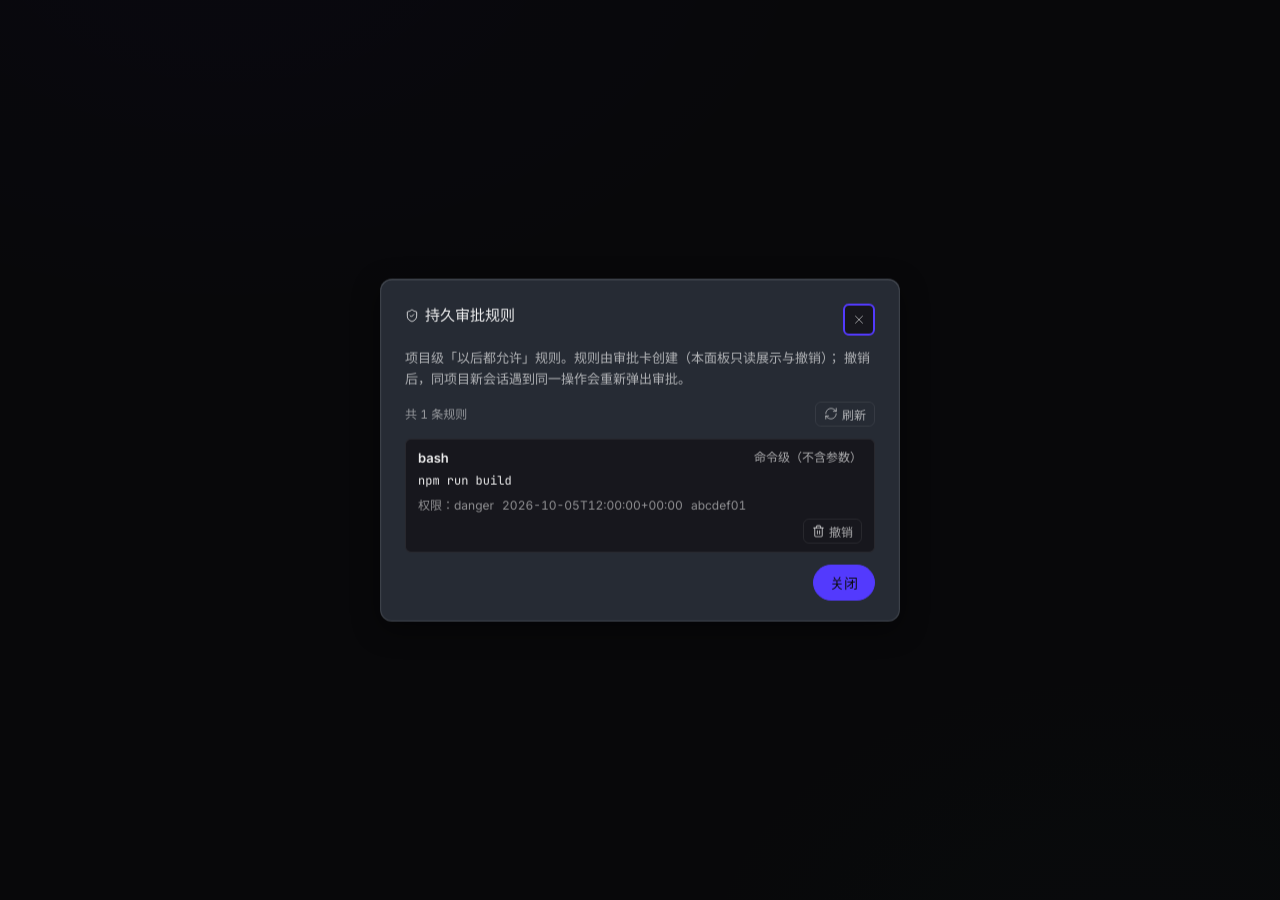
ApprovePolicyPanel › requires explicit confirmation before revoking (F21)
Note: 第一次点击「撤销」只进入确认态，绝不调用后端。
Click the button "撤销" at point(832, 531), box [803,518,862,543]
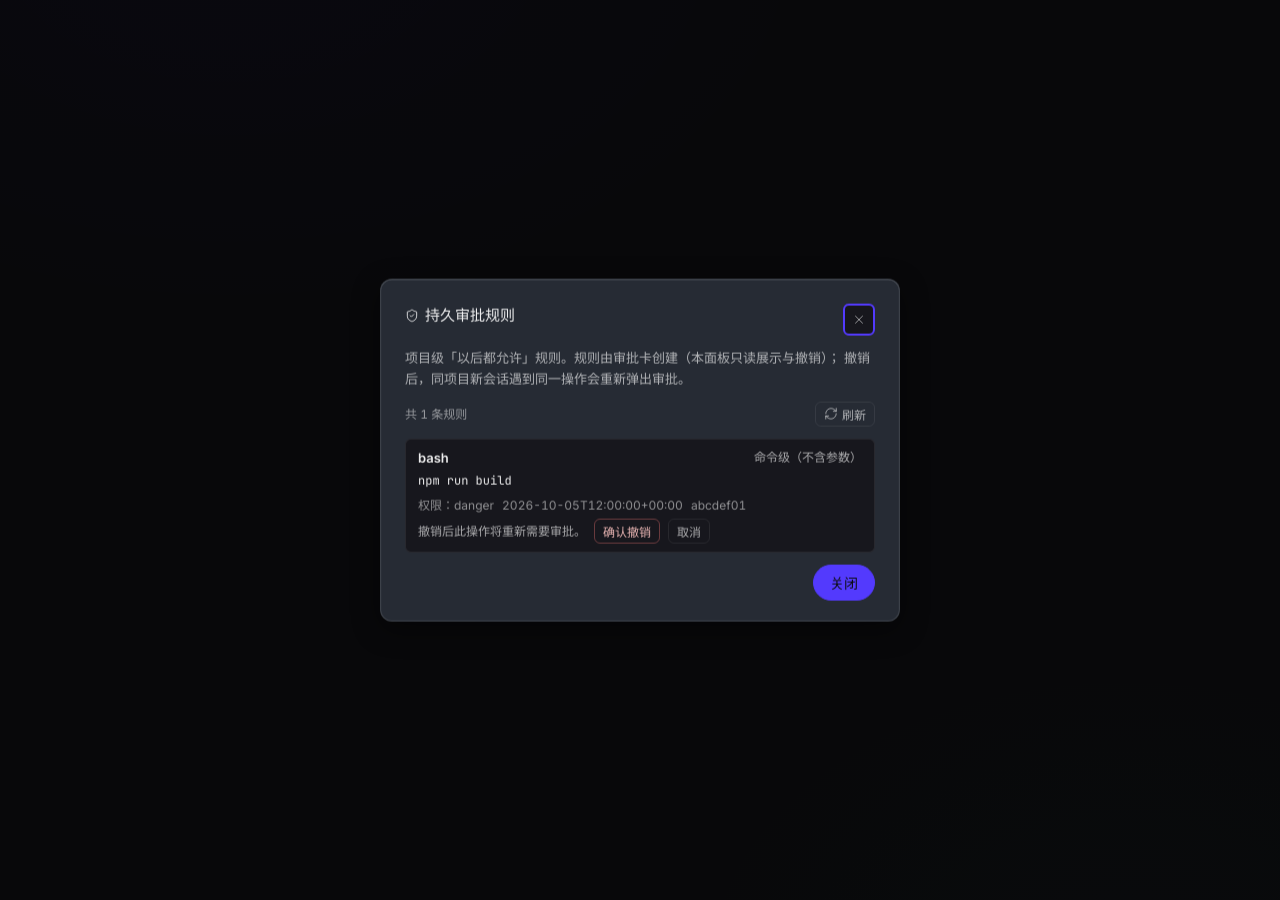
Now the element with class "approve-policy-confirm" is shown, box [418,518,710,543]
Note: 第二次点「确认撤销」才真调用，并从列表移除。
Click the button with class "approve-policy-danger" at point(627, 531), box [594,518,660,543]
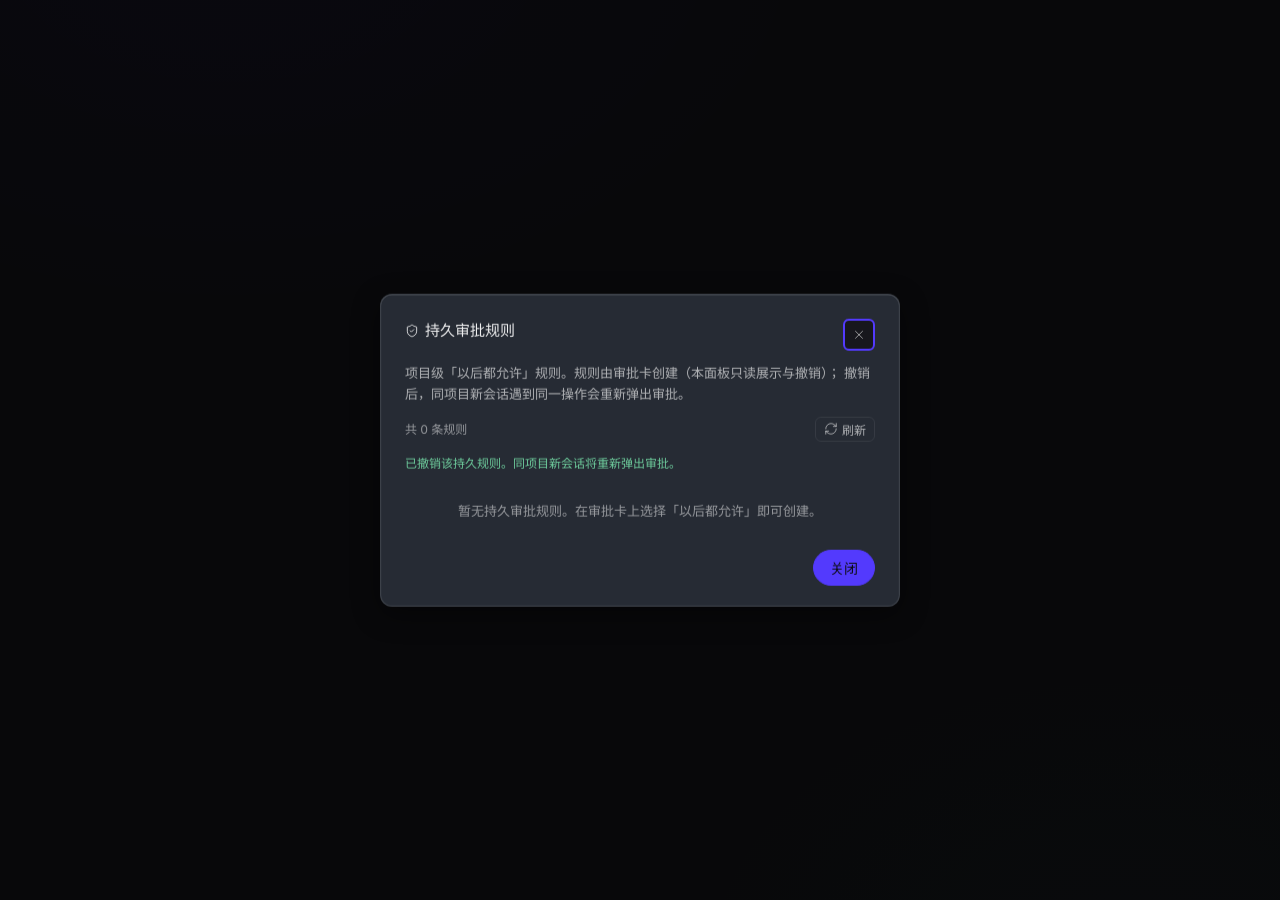
Now the list item with class "approve-policy-row" is gone
